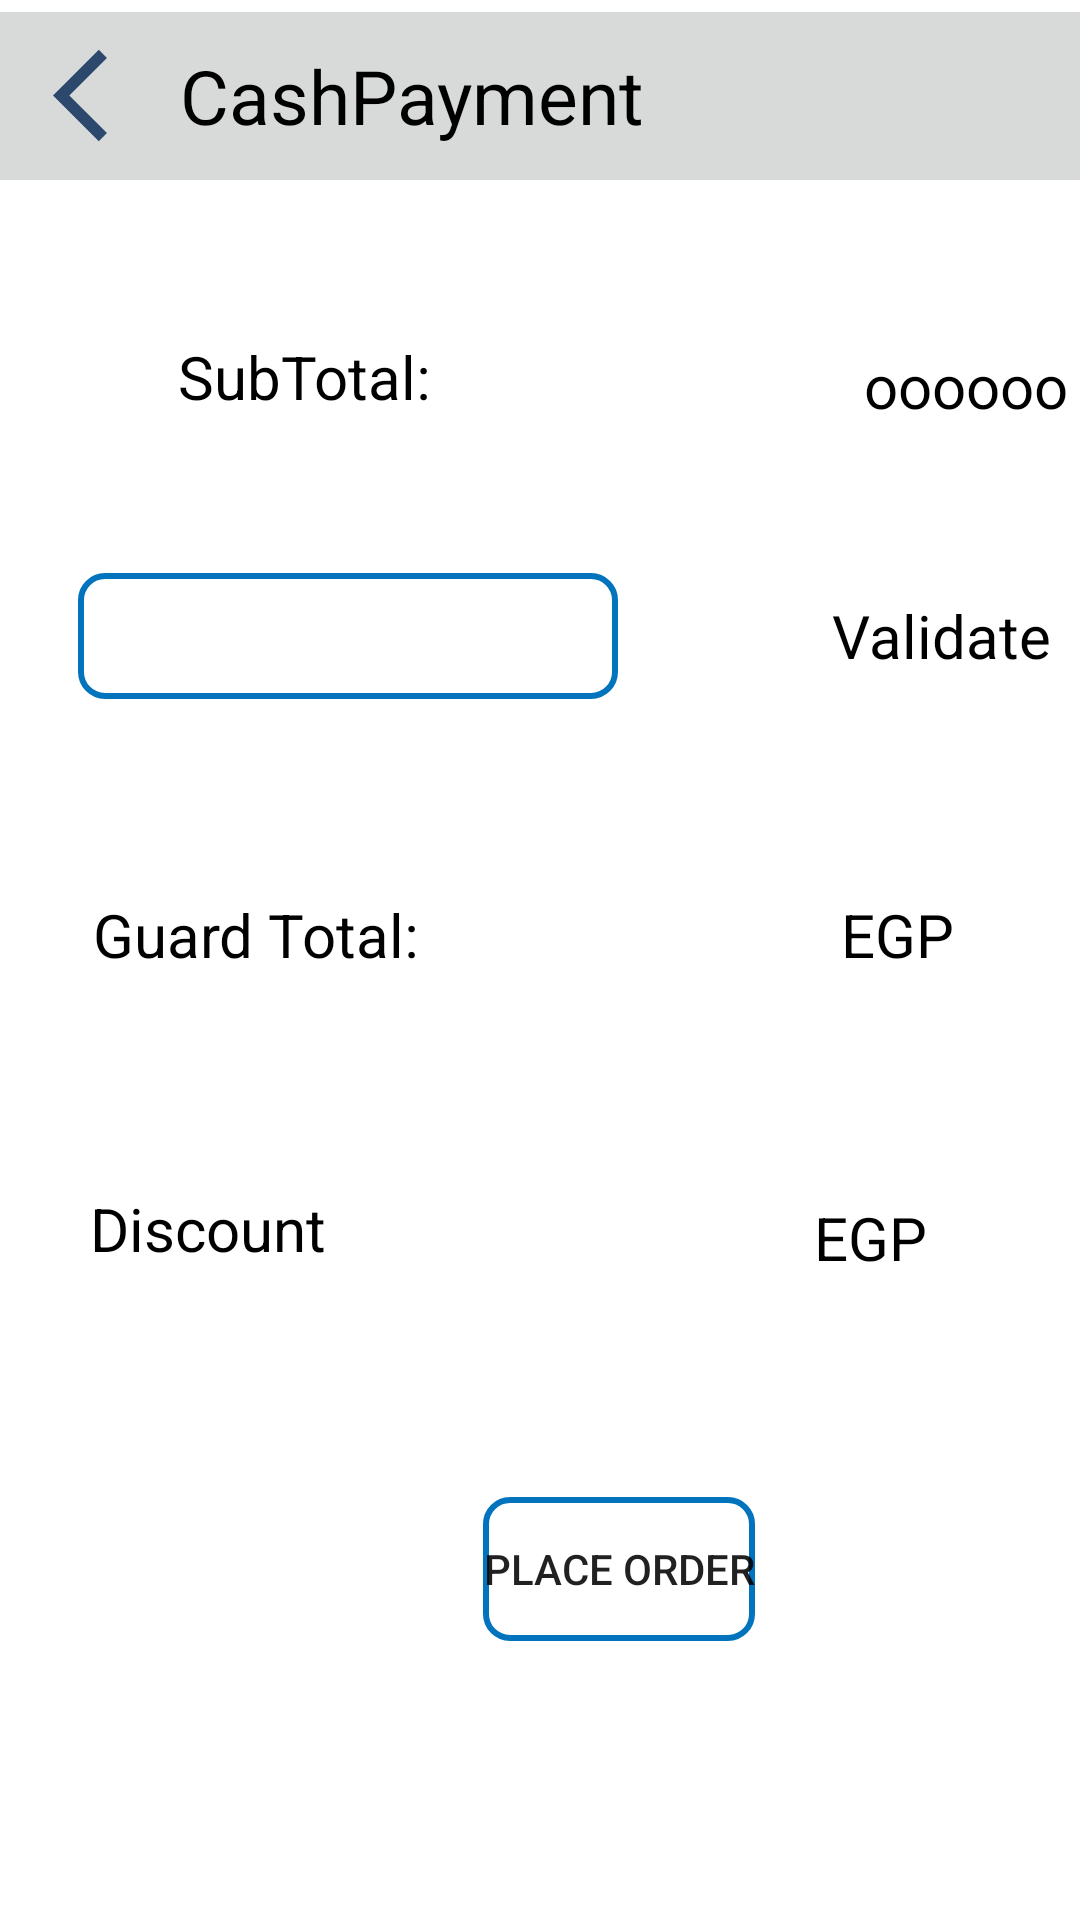

Where to tap for icons on this 1080 × 1920 app screen, as [x,y]:
arrow back: [80,95]
